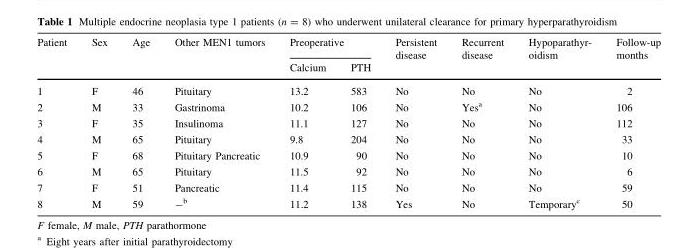table: (36, 37, 660, 209)
table column: (161, 37, 276, 209), (515, 37, 603, 209), (448, 37, 515, 209), (382, 37, 448, 209), (276, 37, 337, 209), (603, 37, 660, 209), (337, 37, 382, 209), (36, 37, 78, 209), (119, 37, 161, 209), (78, 37, 119, 209)
table column header: (36, 37, 660, 79)
table row: (36, 37, 660, 61), (36, 79, 660, 98), (36, 61, 660, 79), (36, 98, 660, 115), (36, 115, 660, 131), (36, 131, 660, 147), (36, 147, 660, 163), (36, 163, 660, 179), (36, 179, 660, 194), (36, 194, 660, 209)
table spanning cell: (161, 37, 276, 79), (515, 37, 603, 79), (448, 37, 515, 79), (382, 37, 448, 79), (276, 37, 382, 61), (603, 37, 660, 79), (36, 37, 78, 79), (119, 37, 161, 79), (78, 37, 119, 79)
